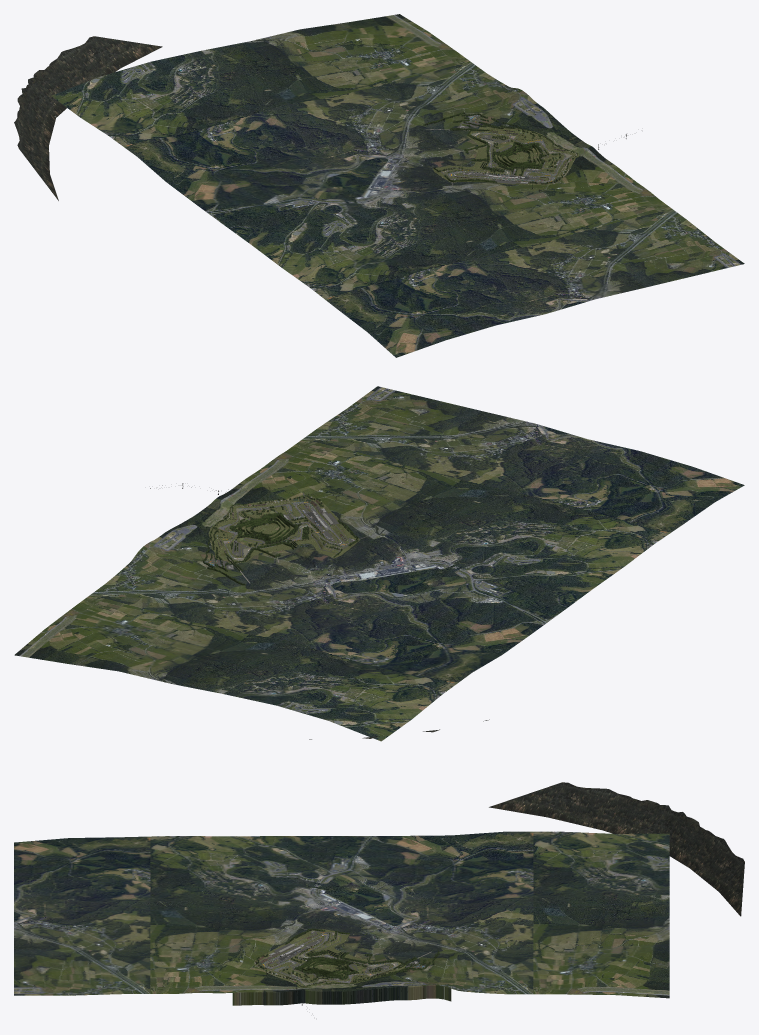
Rendered from hungaroring_2020_layout (1).glb.
3 views of the same model, one above another, from view 1: azimuth 30°, elevation 25°; view 2: azimuth 150°, elevation 25°; view 3: azimuth 270°, elevation 25° (orthographic). The views are drawn at different scales.
Parts seen in each view (by area): view 1: hungaroring_0; view 2: hungaroring_0; view 3: hungaroring_0.
Boxes of the visible parts, <box> form: hungaroring_0: <box>14,14,744,357</box>; hungaroring_0: <box>14,386,744,741</box>; hungaroring_0: <box>14,782,744,1005</box>.
Bounding box in the file's own units: 5126 × 330 × 6849.
100 materials, 100 textured.
